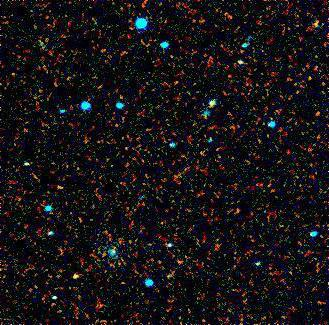star: (58, 258, 88, 288)
